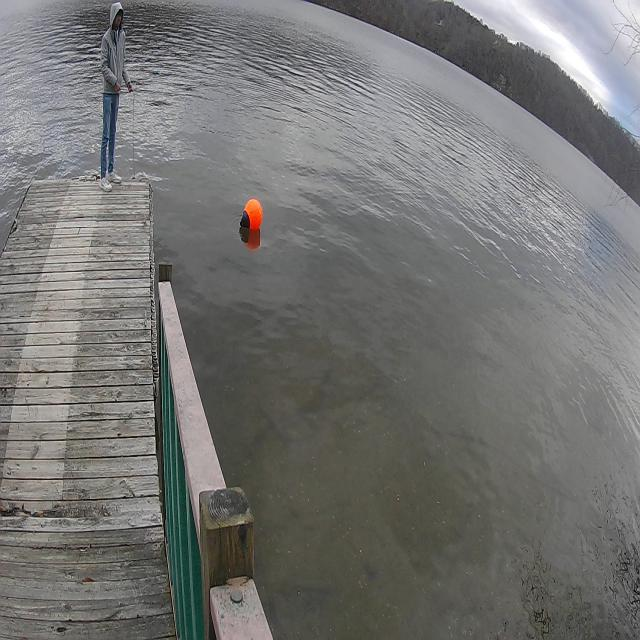Buoy: (240, 192, 264, 244)
